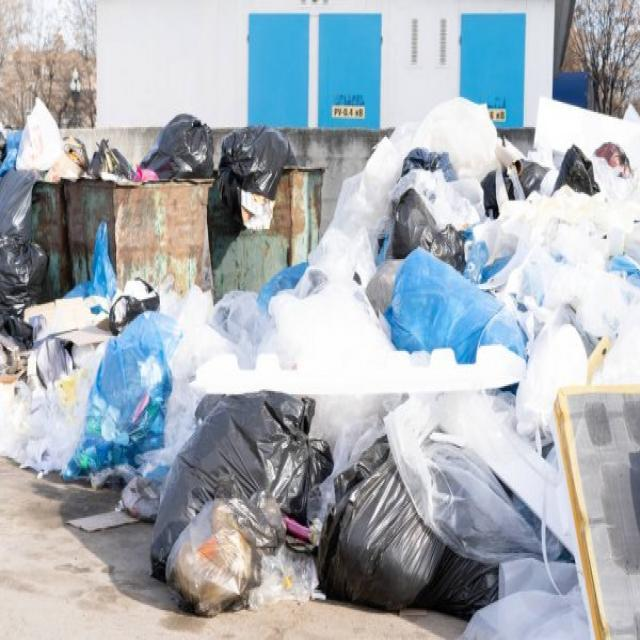garbage: (359, 116, 640, 382), (217, 389, 496, 613), (4, 235, 212, 454), (5, 132, 132, 190), (136, 104, 218, 184), (223, 119, 294, 205)
